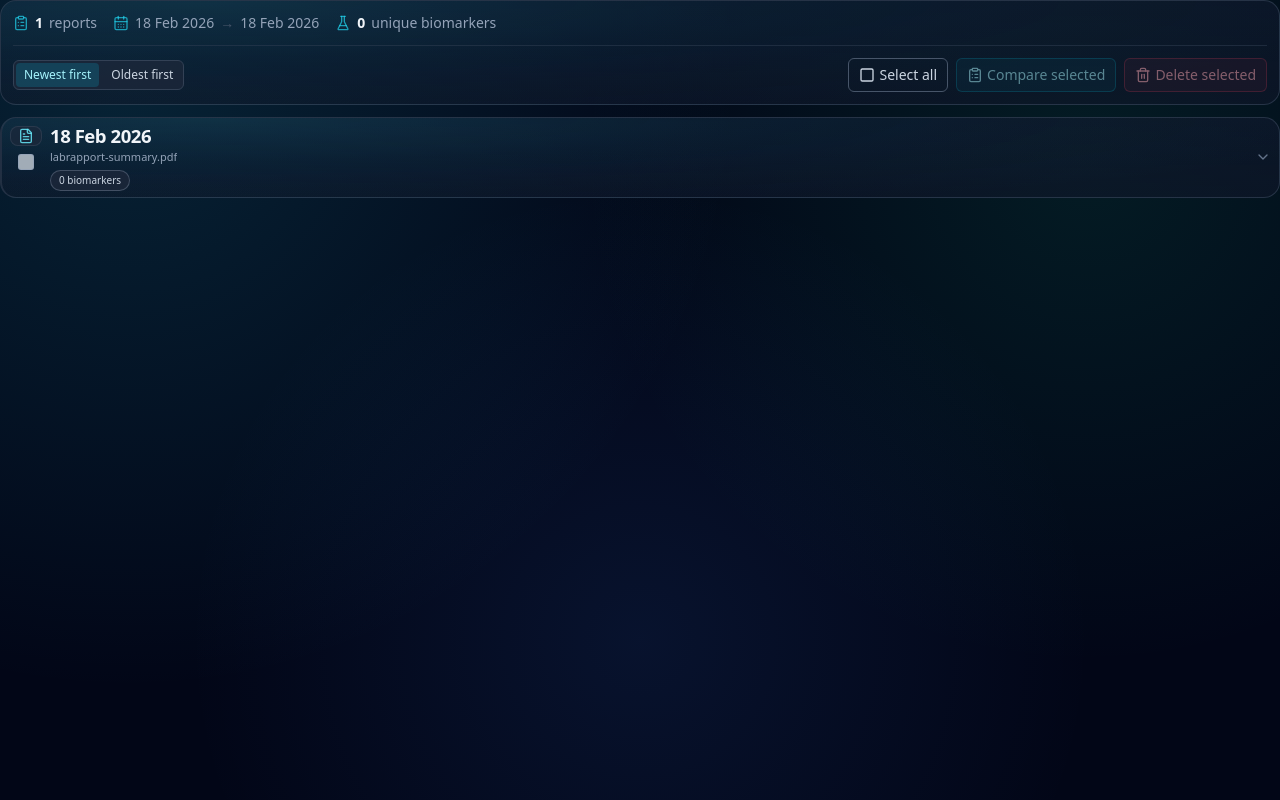
Test case: ReportsView compact summary › shows no supplements state as compact status
What coordinates should you click on to do the following:
click the button with aria-label "Expand"
I would click on:
 (101, 136)
Its box is [50,124,1271,191].
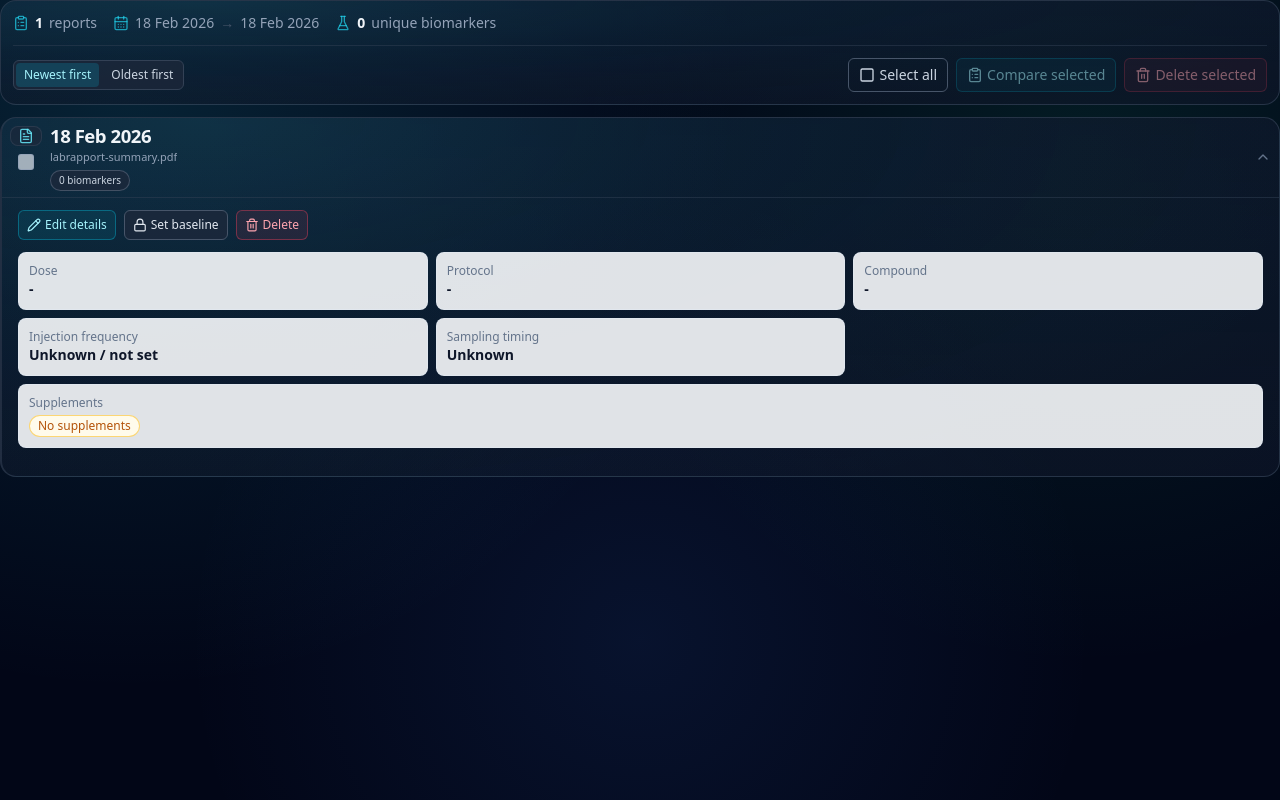
Expected: the text "No supplements" is shown, [29,415,140,437]
